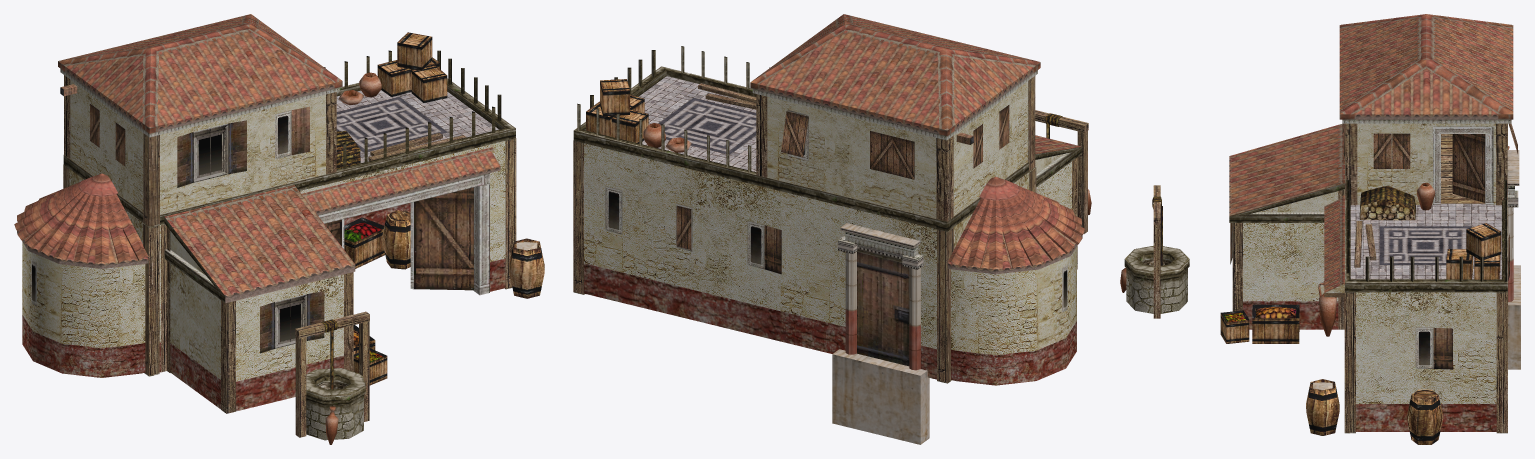
File: rome_fc.dae
3 views of the same model, side by side, from view 1: azimuth 30°, elevation 25°; view 2: azimuth 150°, elevation 25°; view 3: azimuth 270°, elevation 25° (orthographic). The views are drawn at different scales.
Parts seen in each view (by area): view 1: rome_farmstead; view 2: rome_farmstead; view 3: rome_farmstead.
Part boxes in pixels (box(x1,y1,x2,y2)): rome_farmstead: box(14, 14, 544, 444); rome_farmstead: box(573, 14, 1091, 444); rome_farmstead: box(1120, 14, 1520, 444).
Size of the model in its own units: 22.63 by 17.31 by 15.6.
